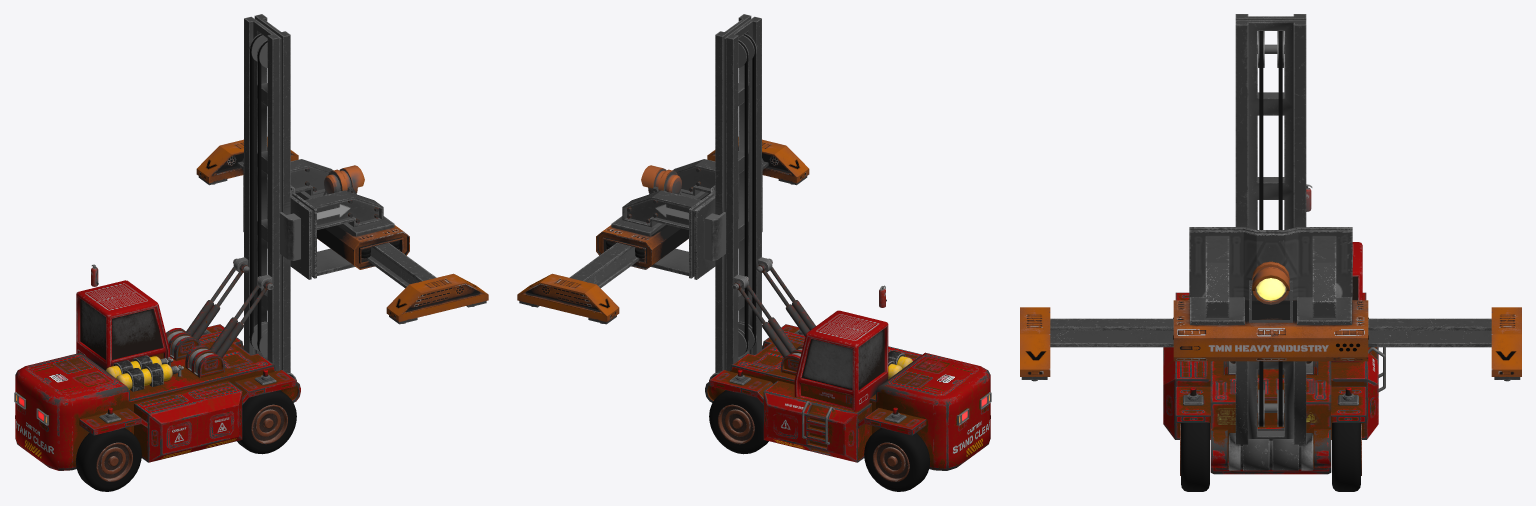
File: container_loader.glb
3 renders of one model, left to right at view 1: azimuth 30°, elevation 25°; view 2: azimuth 150°, elevation 25°; view 3: azimuth 270°, elevation 25°, orthographic. The views are drawn at different scales.
Visible parts, largest first — view 1: Cube.009, Cube.005, Cube.010, Cylinder.003, Cube.001, Cube.003, Cylinder.008, Cube.012, Cylinder.001, Cube.002, Cylinder.004, Cube.004 (+5 smaller); view 2: Cube.009, Cube.005, Cube.010, Cylinder.003, Cube.001, Cube.003, Cylinder.008, Cube.012, Cube.002, Cylinder.001, Cube.004, Cube (+3 smaller); view 3: Cube.005, Cube.009, Cube.002, Cube.004, Cube, Cube.003, Cube.001, Cylinder.003, Cube.012, Cylinder.008, Cylinder.006, Cylinder (+1 smaller).
Part boxes in pixels (left/top/right/bottom): Cube.009: left=15, top=330, right=300, bottom=470; Cube.005: left=244, top=14, right=296, bottom=381; Cube.010: left=76, top=280, right=169, bottom=370; Cylinder.003: left=15, top=390, right=296, bottom=491; Cube.001: left=196, top=137, right=488, bottom=322; Cube.003: left=290, top=159, right=394, bottom=275; Cylinder.008: left=250, top=34, right=267, bottom=353; Cube.012: left=79, top=324, right=296, bottom=435; Cylinder.001: left=186, top=259, right=271, bottom=357; Cube.002: left=295, top=193, right=409, bottom=269; Cylinder.004: left=106, top=355, right=183, bottom=391; Cube.004: left=243, top=163, right=316, bottom=279; Cube.009: left=705, top=330, right=990, bottom=470; Cube.005: left=709, top=14, right=761, bottom=381; Cube.010: left=794, top=310, right=888, bottom=411; Cylinder.003: left=709, top=390, right=990, bottom=491; Cube.001: left=517, top=137, right=809, bottom=322; Cube.003: left=611, top=159, right=715, bottom=275; Cylinder.008: left=738, top=34, right=755, bottom=353; Cube.012: left=709, top=324, right=926, bottom=435; Cube.002: left=596, top=193, right=710, bottom=269; Cylinder.001: left=734, top=259, right=815, bottom=357; Cube.004: left=689, top=163, right=762, bottom=279; Cube: left=569, top=158, right=768, bottom=288; Cube.005: left=1228, top=14, right=1313, bottom=470; Cube.009: left=1163, top=347, right=1378, bottom=474; Cube.002: left=1173, top=300, right=1368, bottom=361; Cube.004: left=1189, top=227, right=1352, bottom=300; Cube: left=1050, top=318, right=1491, bottom=347; Cube.003: left=1190, top=236, right=1351, bottom=324; Cube.001: left=1020, top=307, right=1521, bottom=376; Cylinder.003: left=1180, top=423, right=1361, bottom=491; Cube.012: left=1175, top=292, right=1366, bottom=422; Cylinder.008: left=1259, top=31, right=1282, bottom=426; Cylinder.006: left=1252, top=261, right=1289, bottom=304; Cylinder: left=1257, top=31, right=1284, bottom=426.
Bounding box in the file's own units: 8.51 × 8.97 × 8.34.
Materials: 5 (5 with a texture image).
